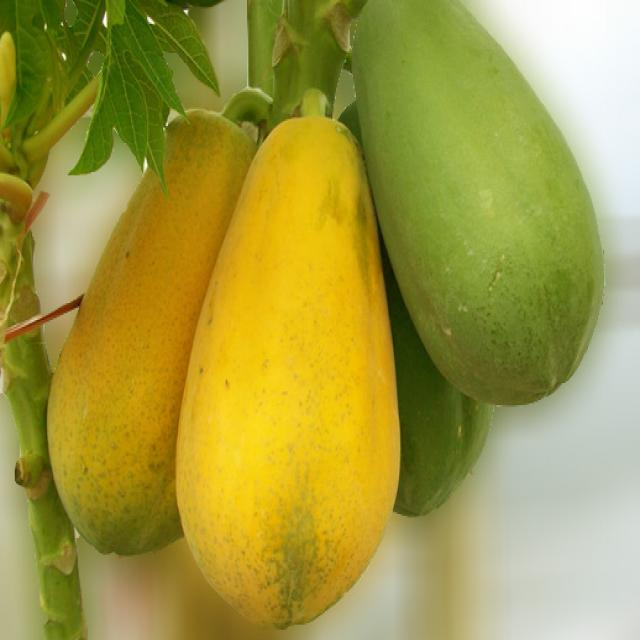Pepaya rippen: (172, 119, 398, 630), (44, 94, 251, 566)
Pepaya unrippen: (354, 2, 608, 422)
